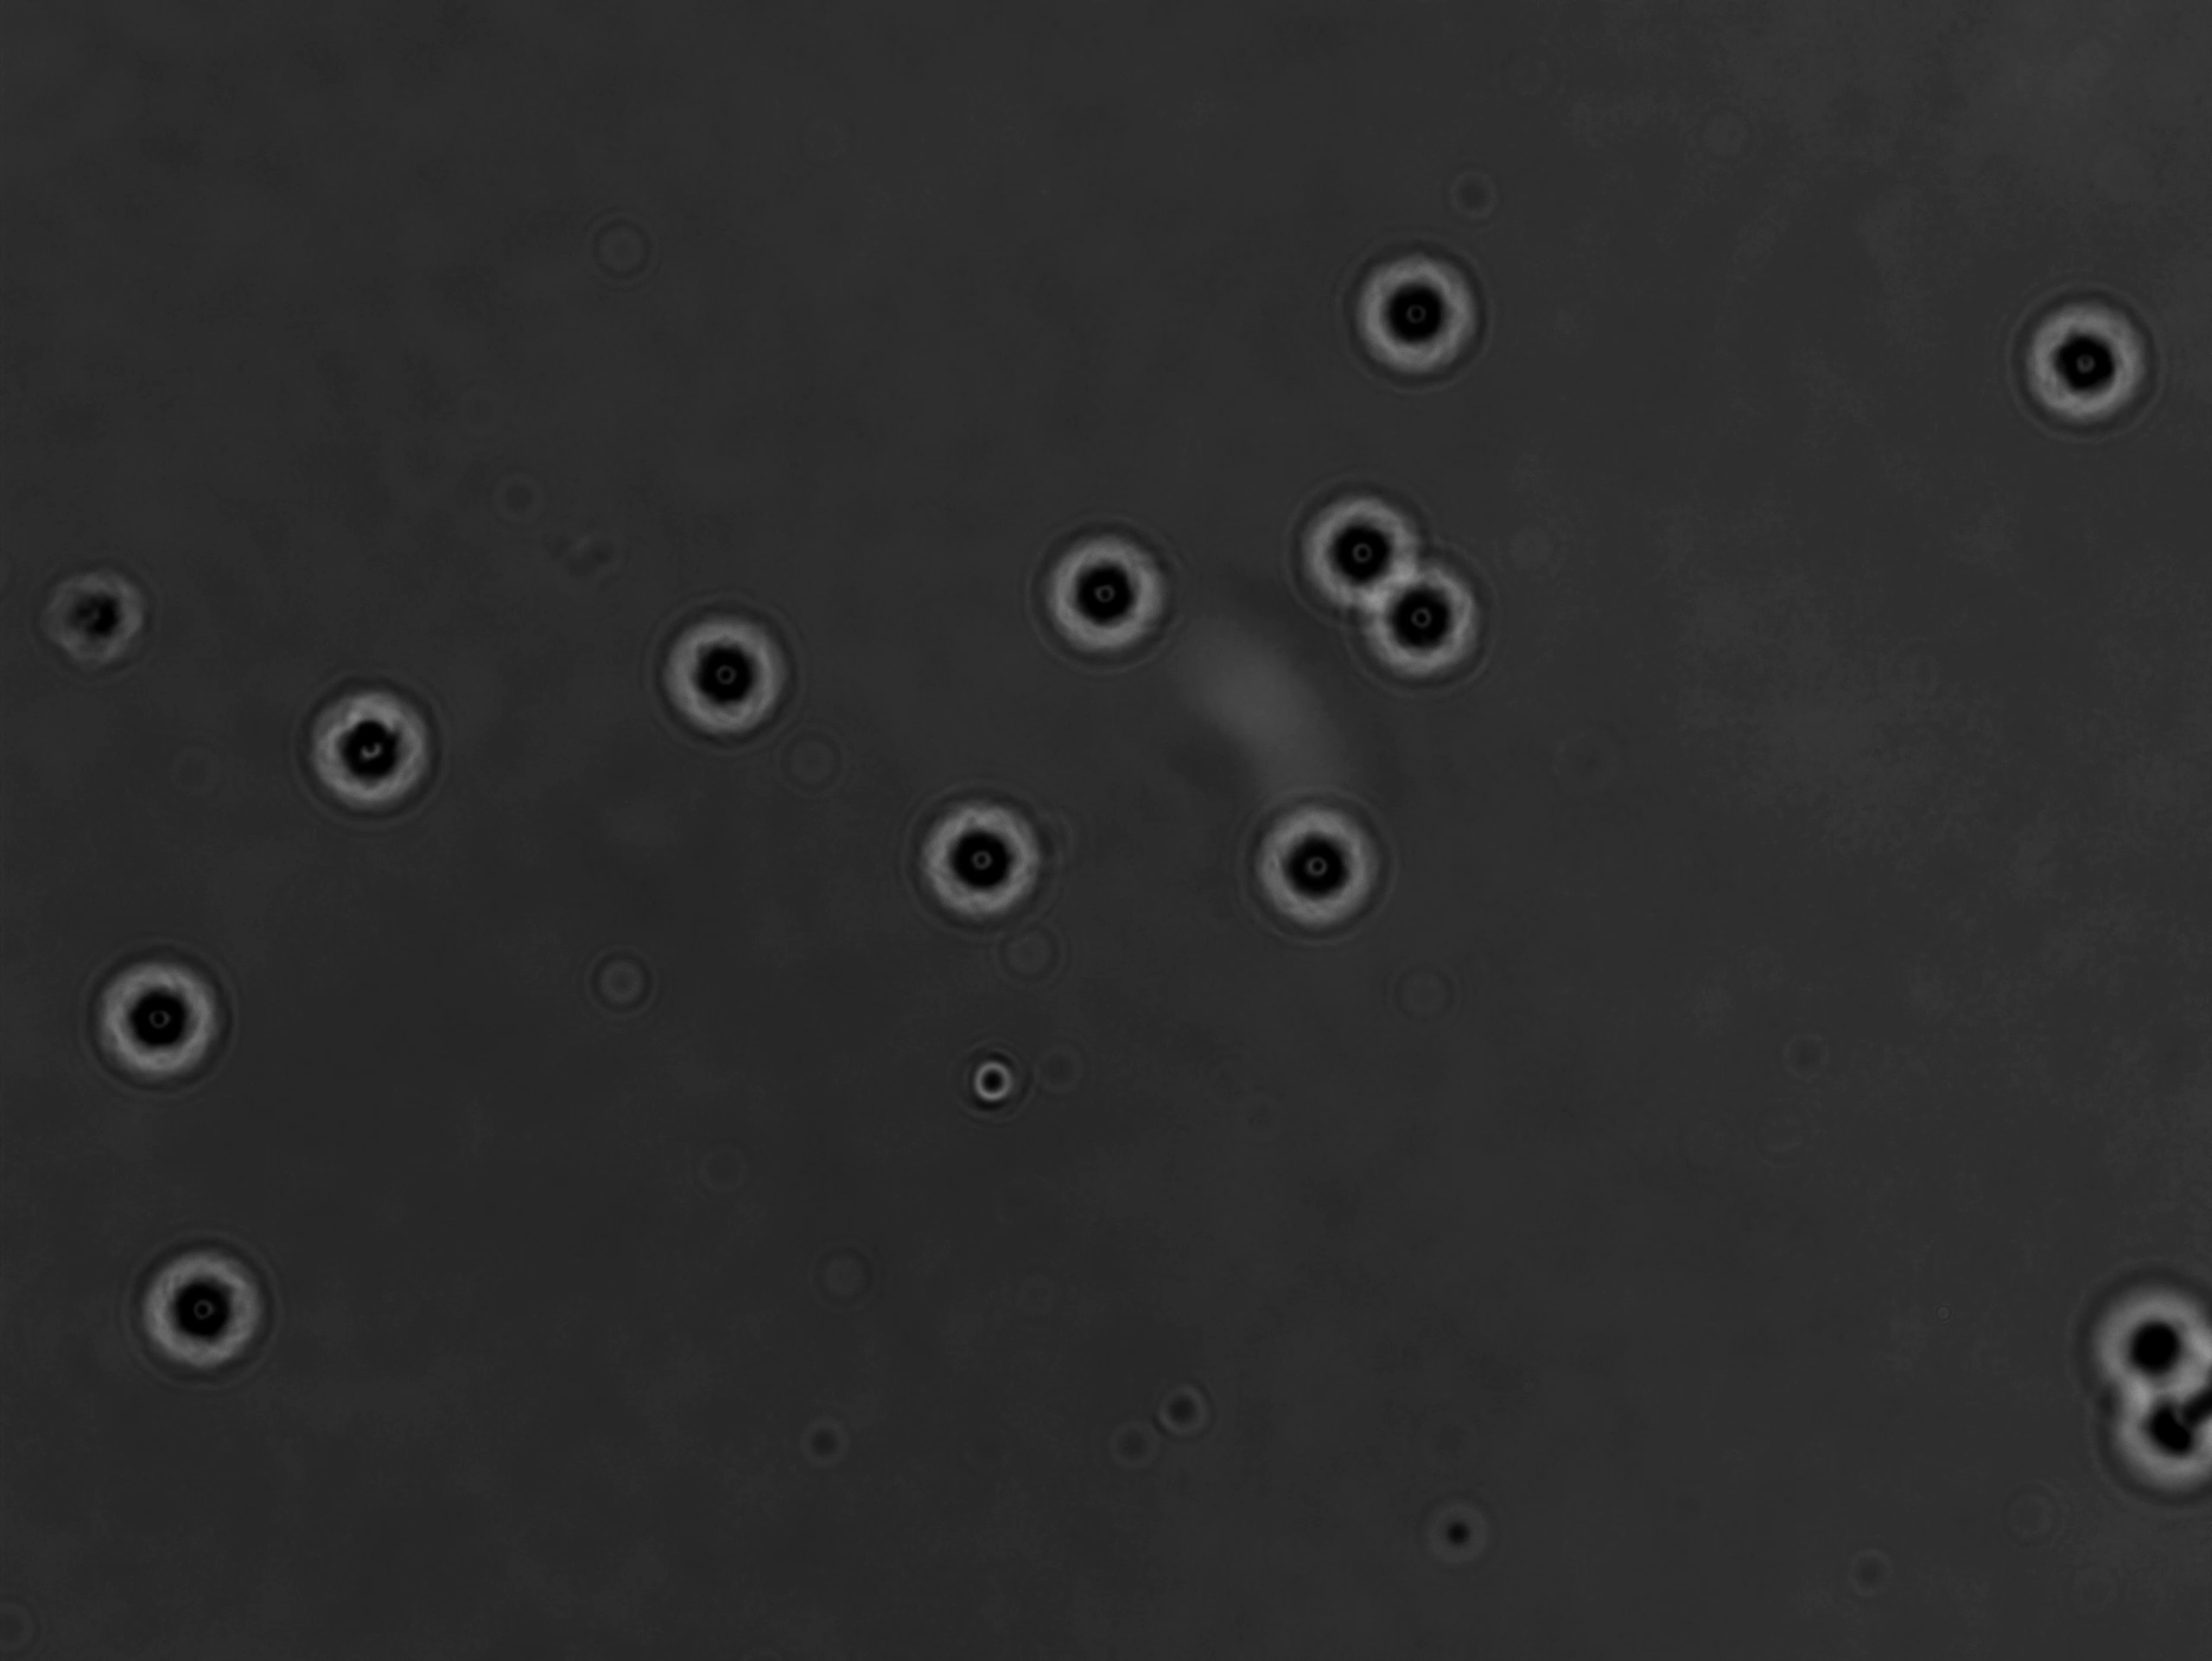depth:-20: (2001, 265, 2186, 448), (642, 574, 822, 761), (1017, 499, 1202, 679), (126, 1207, 304, 1389), (1265, 473, 1444, 637), (73, 930, 242, 1099), (1338, 223, 1500, 398), (895, 778, 1064, 940), (297, 665, 466, 824), (1235, 782, 1399, 940), (2076, 1249, 2212, 1436), (1354, 557, 1518, 703)
